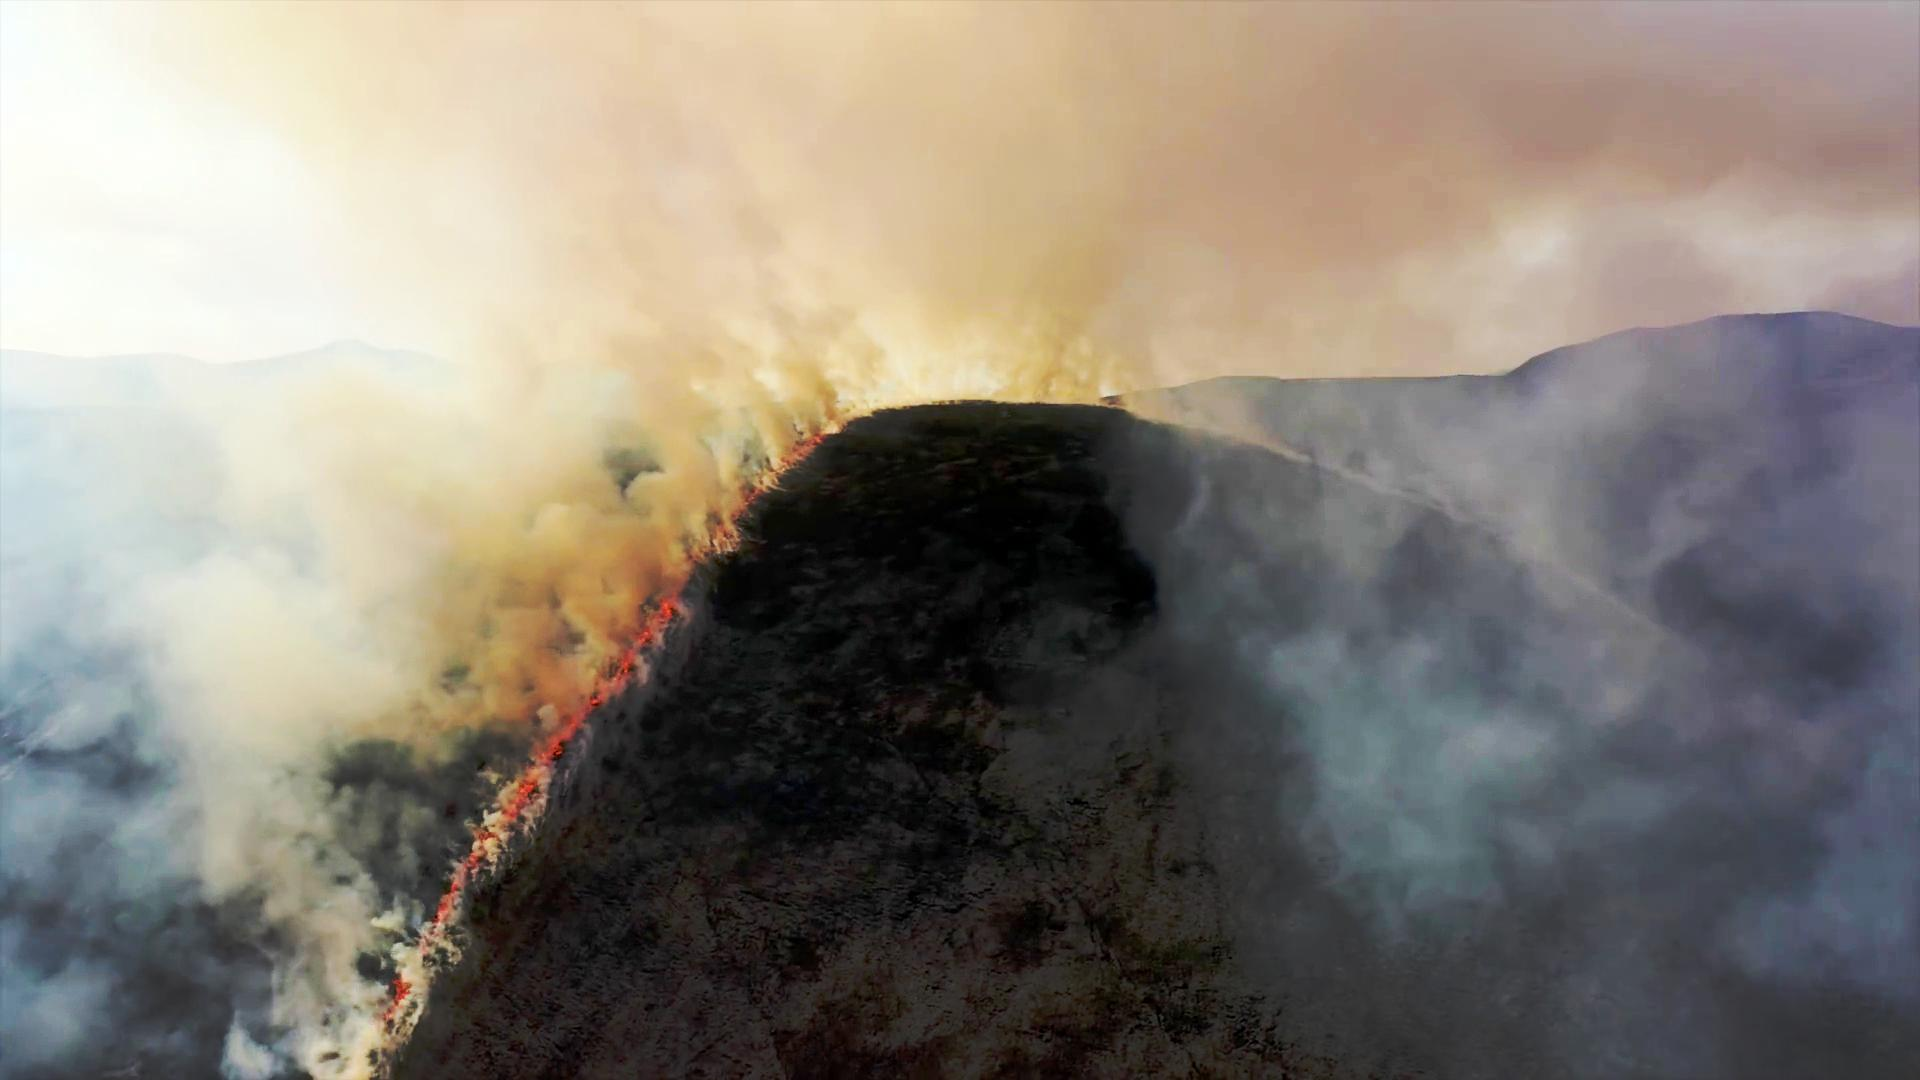smoke: (1106, 102, 1920, 1080), (189, 371, 707, 752)
